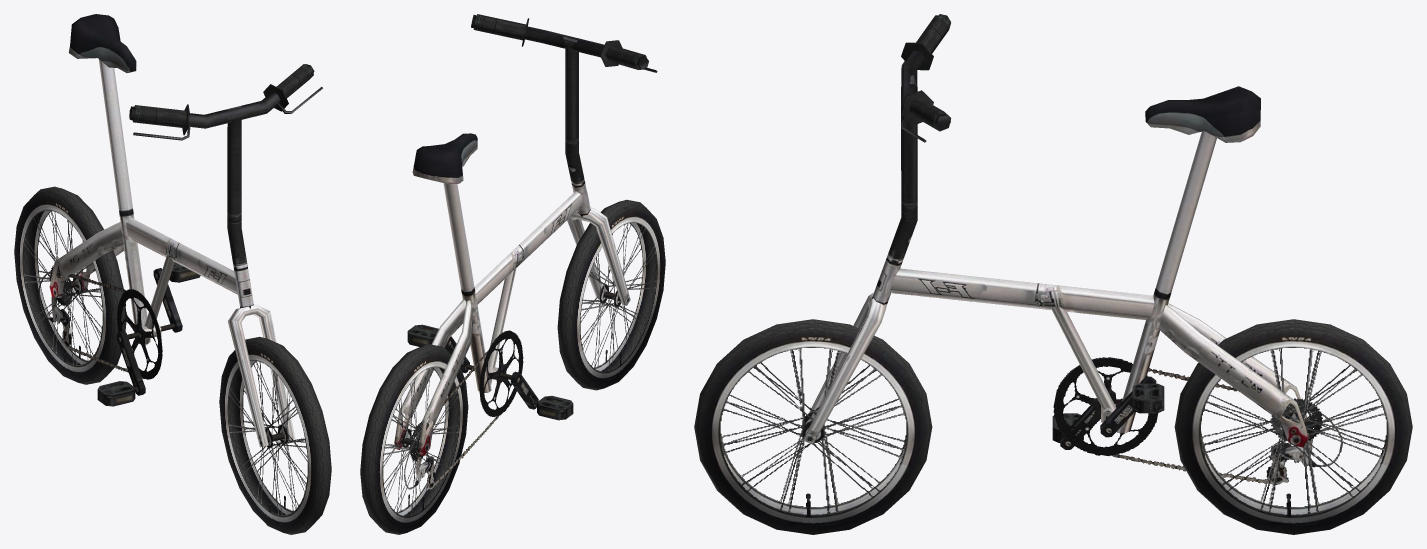
Rendered from bike-5.FBX.
3 renders of one model, left to right at view 1: azimuth 30°, elevation 25°; view 2: azimuth 150°, elevation 25°; view 3: azimuth 270°, elevation 25°, orthographic. The views are drawn at different scales.
Parts seen in each view (by area): view 1: bicycle-5_LOD0, F_Wheel_LOD0, R_Wheel_LOD0; view 2: bicycle-5_LOD0, F_Wheel_LOD0, R_Wheel_LOD0; view 3: bicycle-5_LOD0, F_Wheel_LOD0, R_Wheel_LOD0.
Part boxes in pixels (x1,y1,x2,y2): bicycle-5_LOD0: [38, 14, 322, 447]; F_Wheel_LOD0: [219, 336, 331, 534]; R_Wheel_LOD0: [14, 186, 126, 384]; bicycle-5_LOD0: [394, 14, 657, 490]; F_Wheel_LOD0: [557, 199, 665, 390]; R_Wheel_LOD0: [360, 344, 468, 534]; bicycle-5_LOD0: [804, 14, 1342, 484]; F_Wheel_LOD0: [694, 319, 932, 534]; R_Wheel_LOD0: [1174, 319, 1412, 534].
Size of what is drawn, in the model's own units: 24.73 by 50.22 by 69.37.
